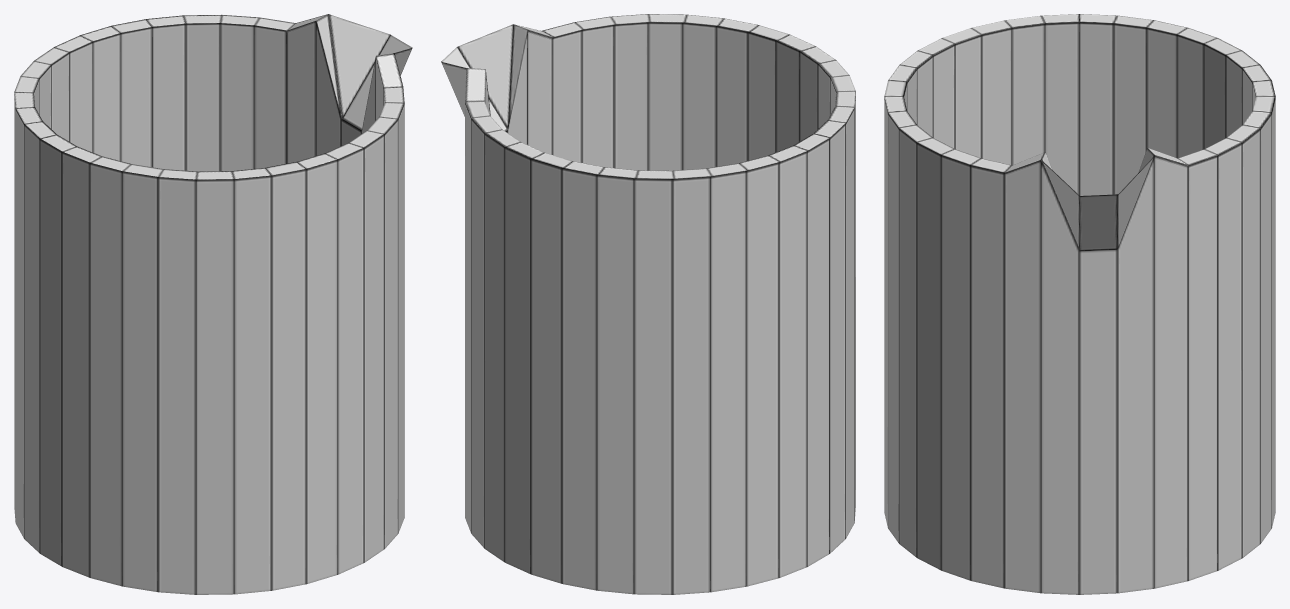
File: Beaker.obj
The picture shows the model from 3 angles, left to right: view 1: azimuth 30°, elevation 25°; view 2: azimuth 150°, elevation 25°; view 3: azimuth 270°, elevation 25°; orthographic projection.
Parts seen in each view (by area): view 1: Cylinder; view 2: Cylinder; view 3: Cylinder.
Boxes of the visible parts, <box> form: Cylinder: <box>14,14,412,594</box>; Cylinder: <box>441,14,855,594</box>; Cylinder: <box>884,14,1275,594</box>.
Bounding box in the file's own units: 0.11 × 0.1221 × 0.1.
Materials: 1 (1 with a texture image).
